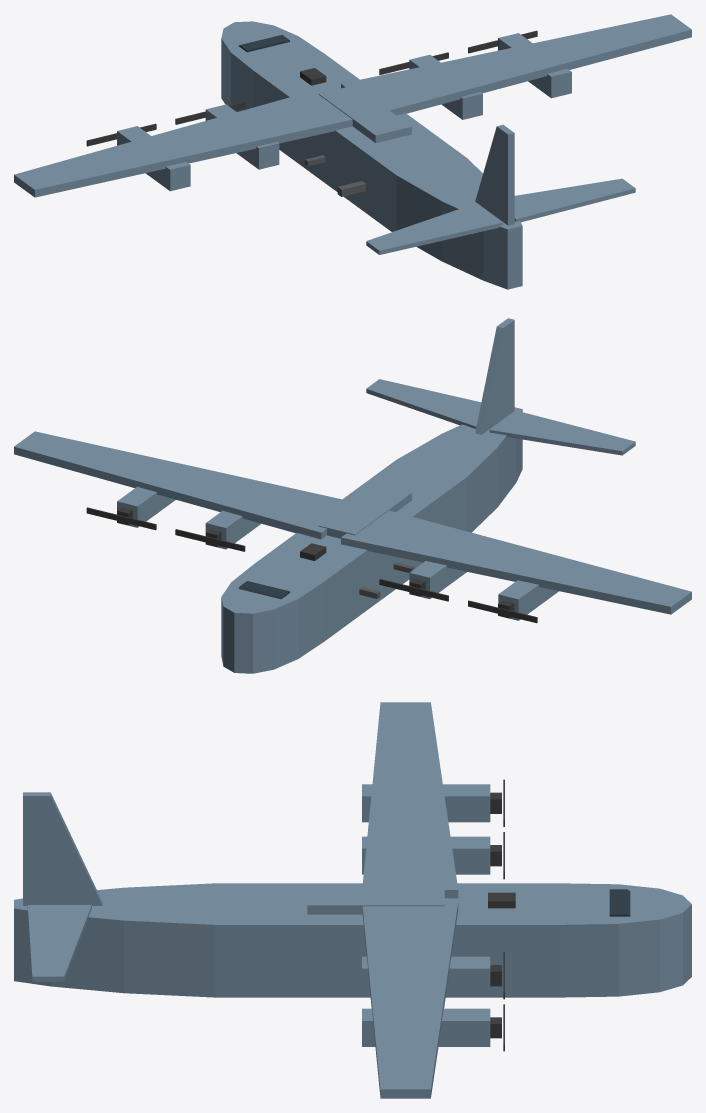
Rendered from gunship.glb.
The picture shows the model from 3 angles, top to bottom: view 1: azimuth 30°, elevation 25°; view 2: azimuth 150°, elevation 25°; view 3: azimuth 270°, elevation 25°; orthographic projection. The views are drawn at different scales.
Visible parts, largest first — view 1: Gunship; view 2: Gunship; view 3: Gunship.
Part boxes in pixels (box(x1,y1,x2,y2)): Gunship: box(14, 14, 691, 289); Gunship: box(14, 318, 691, 673); Gunship: box(14, 702, 691, 1098).
Bounding box in the file's own units: 40 × 8.8 × 29.6.
